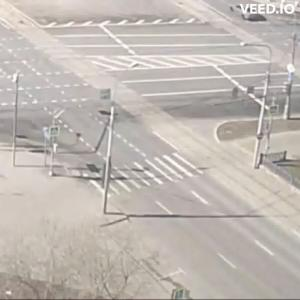car: (231, 6, 258, 22)
